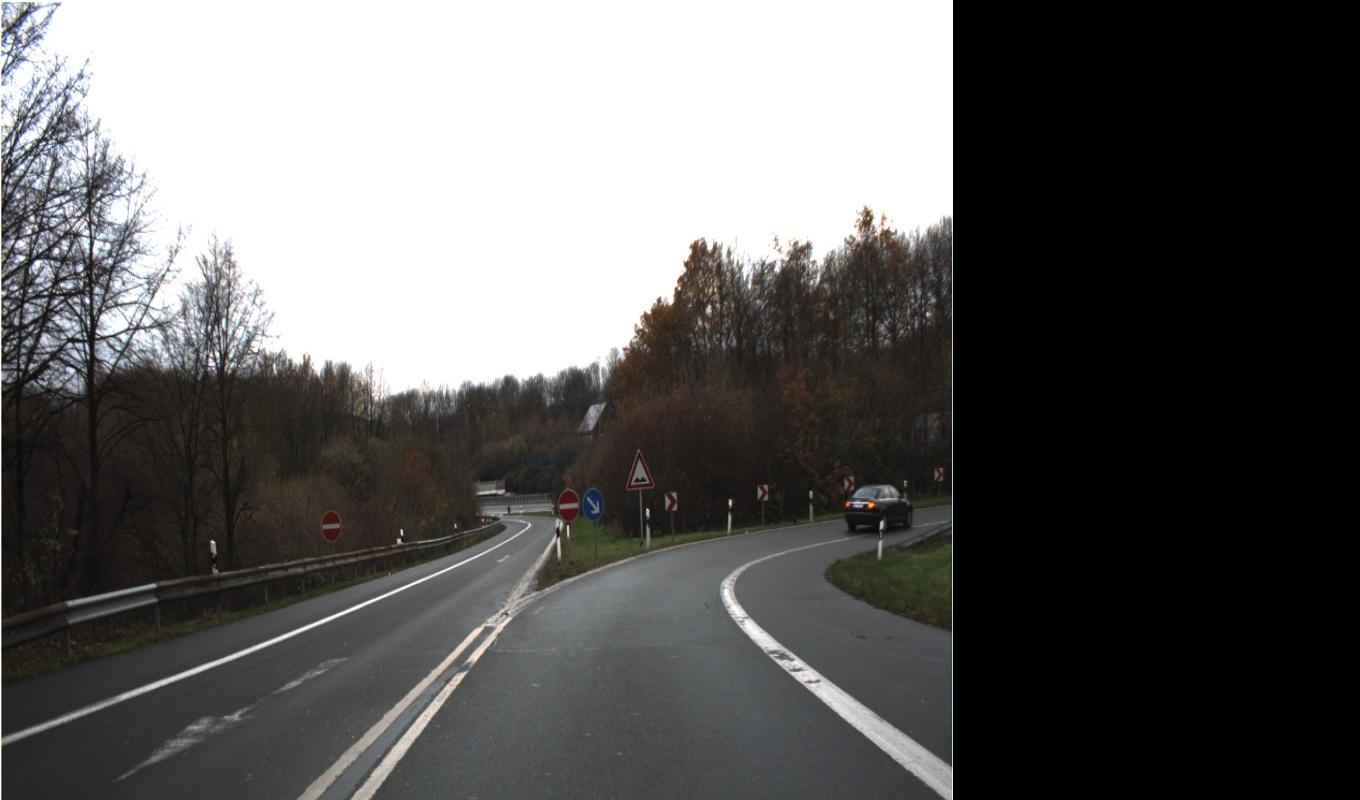no entry: (320, 448, 655, 542)
